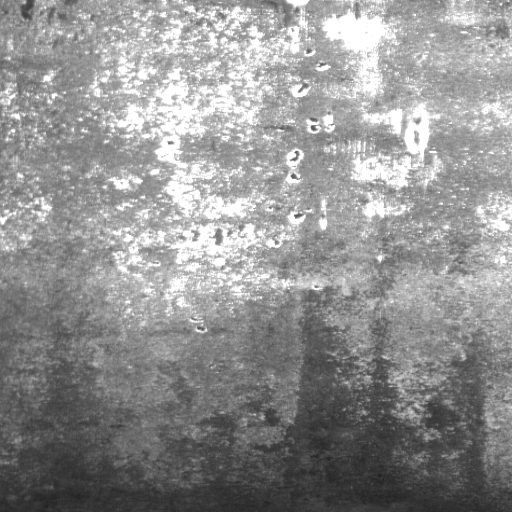xingxingliewen: (283, 46, 334, 232)
